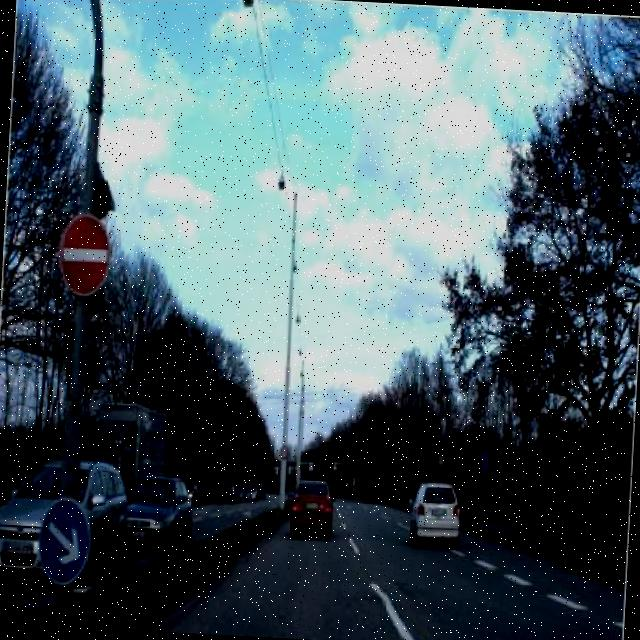Ograniczenie predkosci do 70: (433, 448, 448, 471), (280, 443, 290, 465)
Zakaz wjazdu: (54, 208, 114, 302)
